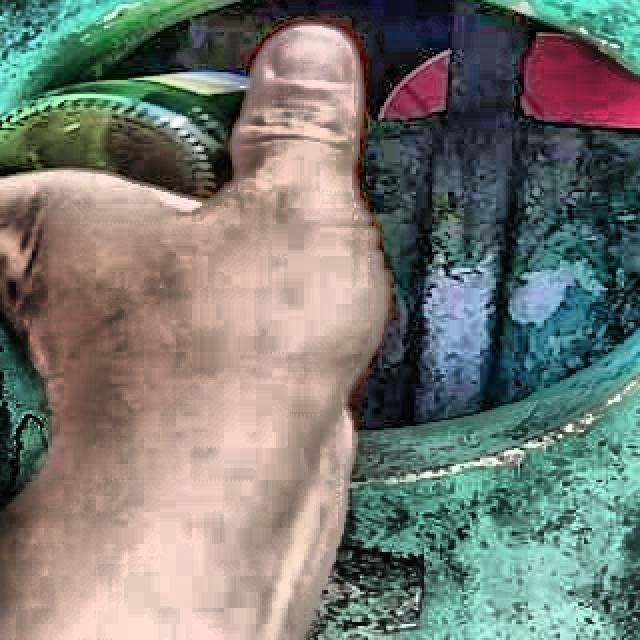glass: (0, 78, 239, 199)
